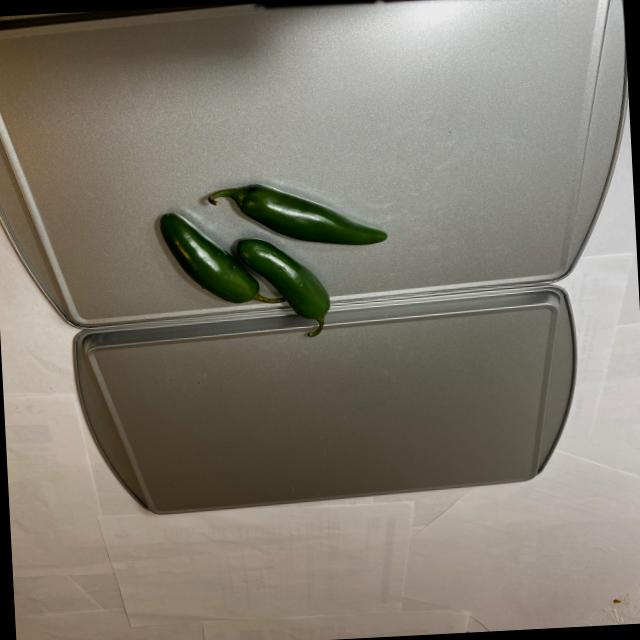chilli: (154, 177, 400, 349)
